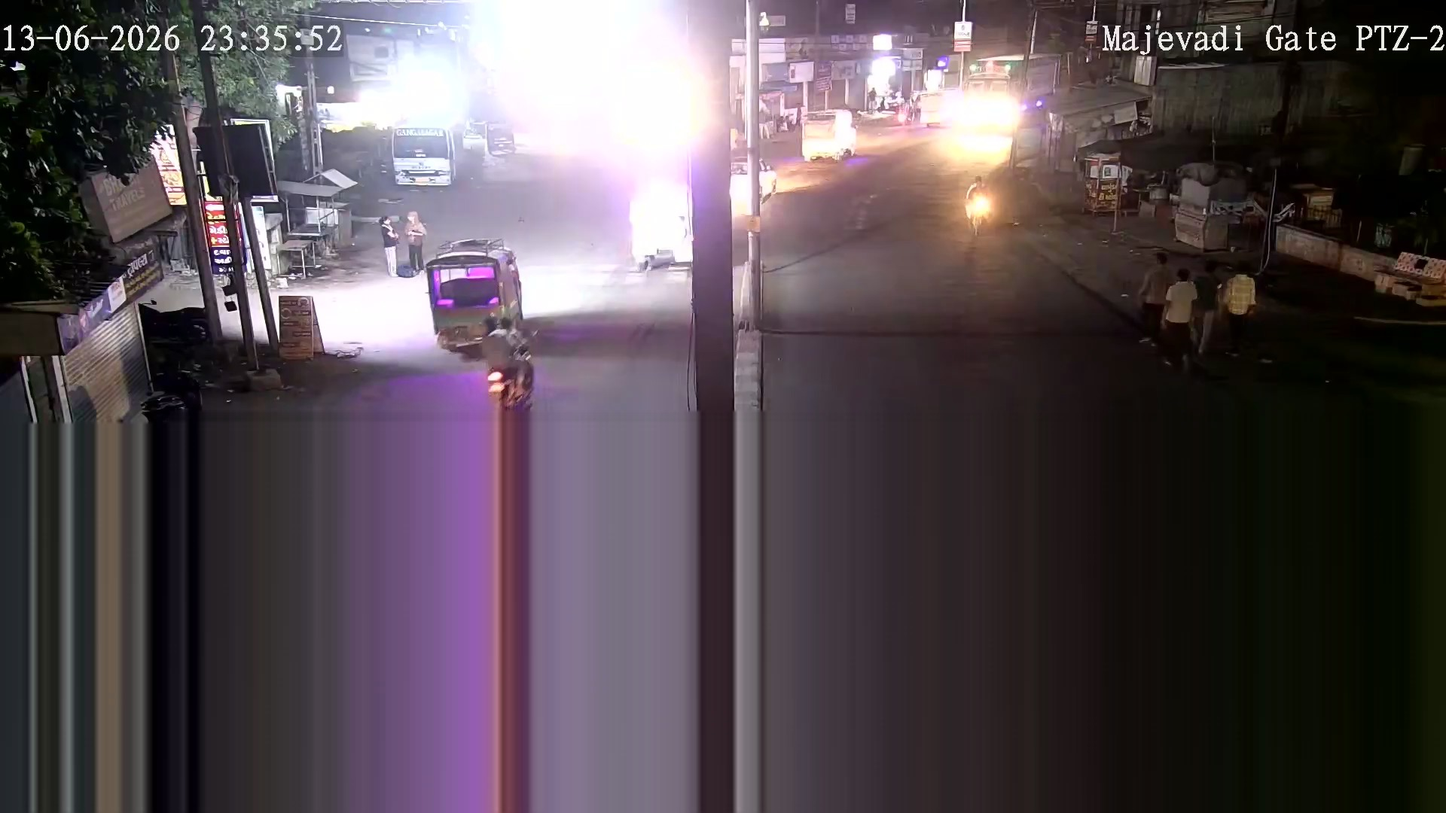pedestrian: (385, 204, 429, 276), (398, 204, 428, 276), (377, 207, 402, 276)
truck: (421, 232, 528, 355)
two_wheeler: (958, 171, 1000, 236)
